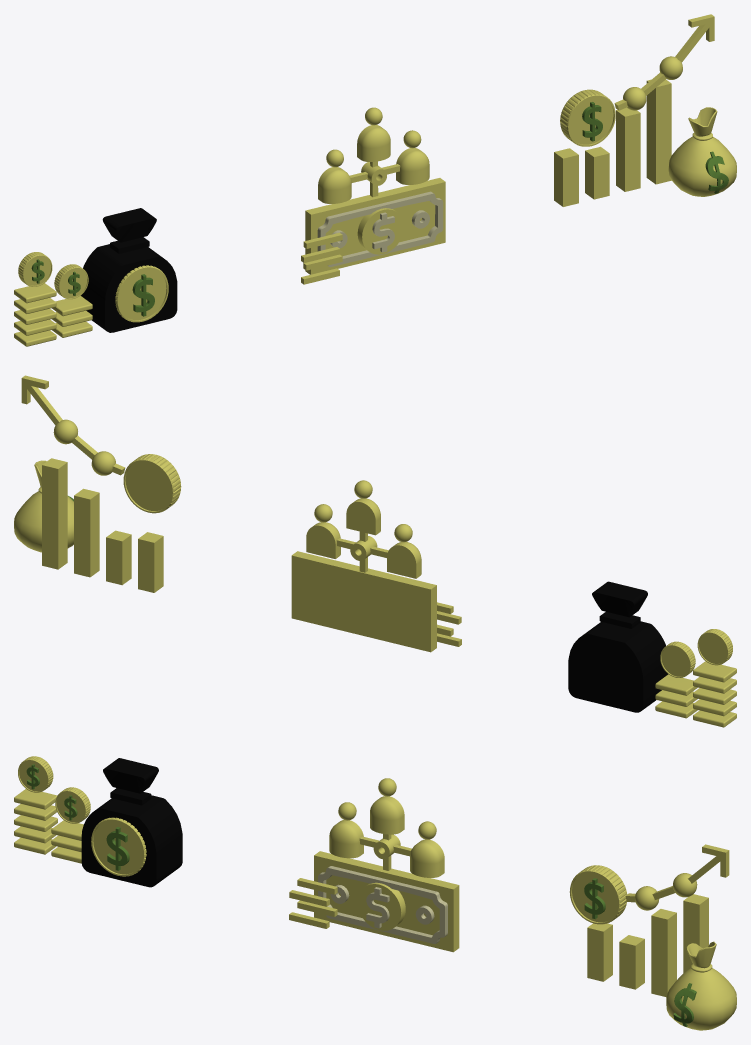
The picture shows the model from 3 angles, top to bottom: view 1: azimuth 30°, elevation 25°; view 2: azimuth 150°, elevation 25°; view 3: azimuth 330°, elevation 25°; orthographic projection. The views are drawn at different scales.
Visible parts, largest first — view 1: pCube11, polySurface42, pSphere12, pCube1, pCube26, pCube13, polySurface43, typeMesh5, pCylinder6, pCube6, pCylinder2, pCube12 (+4 smaller); view 2: pCube1, polySurface42, pCube11, pSphere12, pCube26, pCylinder6, pCube13, pCube12, typeMesh7, typeMesh6, pSphere15, pCube6; view 3: polySurface42, pCube11, pCube1, pSphere12, pCube13, pCube26, polySurface43, typeMesh5, pCylinder6, pCube6, pCylinder2, typeMesh7 (+6 smaller).
Boxes of the visible parts, x1,y1,x2,y2 form: pCube11: (554, 79, 671, 206); polySurface42: (81, 208, 177, 332); pSphere12: (318, 107, 429, 203); pCube1: (305, 178, 445, 274); pCube26: (14, 283, 92, 346); pCube13: (668, 107, 736, 196); polySurface43: (317, 191, 443, 267); typeMesh5: (115, 265, 168, 322); pCylinder6: (560, 89, 615, 146); pCube6: (301, 232, 342, 284); pCylinder2: (357, 208, 404, 254); pCube12: (614, 14, 714, 110); pCube1: (291, 551, 436, 652); polySurface42: (568, 581, 668, 712); pCube11: (42, 458, 163, 592); pSphere12: (306, 480, 421, 578); pCube26: (655, 661, 736, 727); pCylinder6: (123, 454, 181, 513); pCube13: (14, 460, 73, 552); pCube12: (21, 375, 125, 475); typeMesh7: (660, 641, 695, 677); typeMesh6: (697, 629, 732, 665); pSphere15: (53, 419, 115, 475); pCube6: (437, 602, 461, 646); polySurface42: (81, 758, 182, 887); pCube11: (587, 894, 708, 997); pCube1: (314, 851, 459, 952); pSphere12: (329, 778, 444, 877); pCube13: (666, 941, 736, 1030); pCube26: (14, 789, 83, 863); polySurface43: (318, 866, 447, 943); typeMesh5: (91, 817, 146, 876); pCylinder6: (569, 865, 627, 924); pCube6: (289, 878, 337, 928); pCylinder2: (357, 882, 405, 930); typeMesh7: (55, 787, 90, 823).
Bounding box in the file's own units: 0.0889 × 0.0201 × 0.00932.
